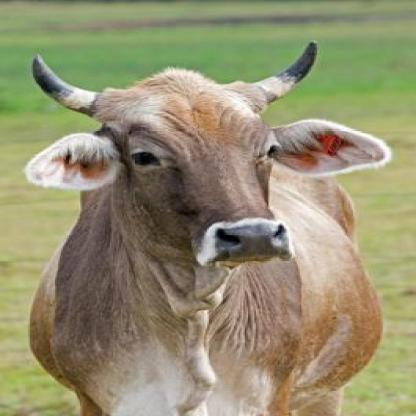lower: (218, 257, 274, 266)
mouth: (197, 218, 296, 271)
upper: (215, 225, 285, 253)
